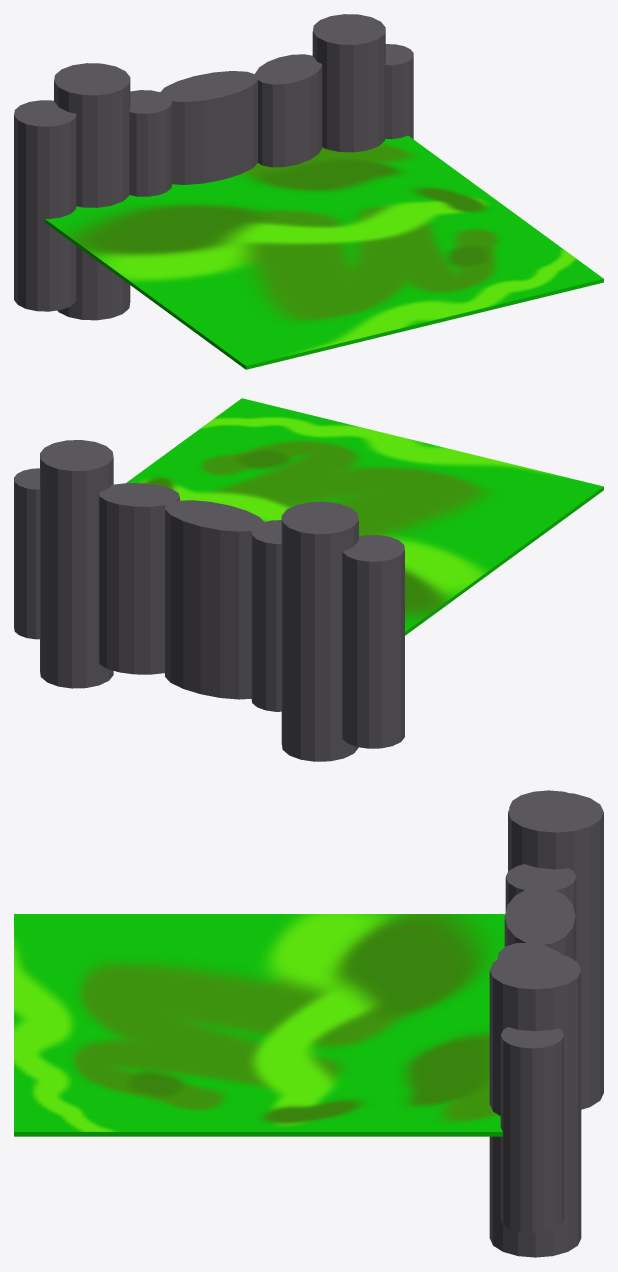
Rendered from terralgarden1.glb.
The picture shows the model from 3 angles, top to bottom: view 1: azimuth 30°, elevation 25°; view 2: azimuth 150°, elevation 25°; view 3: azimuth 270°, elevation 25°; orthographic projection. The views are drawn at different scales.
Visible parts, largest first — view 1: Grass, Cylinder, Cylinder.001, Cylinder.003, Cylinder.005, Cylinder.004, Cylinder.002, Cylinder.006; view 2: Grass, Cylinder.003, Cylinder.001, Cylinder.005, Cylinder, Cylinder.004, Cylinder.002, Cylinder.006; view 3: Grass, Cylinder.005, Cylinder.001, Cylinder.006, Cylinder.003, Cylinder.002.
Part boxes in pixels (box(x1,y1,x2,y2)): Grass: box(45, 135, 603, 369); Cylinder: box(14, 100, 76, 311); Cylinder.001: box(54, 63, 130, 320); Cylinder.003: box(160, 71, 257, 184); Cylinder.005: box(312, 14, 385, 152); Cylinder.004: box(255, 54, 322, 167); Cylinder.002: box(129, 90, 171, 196); Cylinder.006: box(385, 44, 413, 139); Grass: box(126, 398, 603, 635); Cylinder.003: box(165, 500, 264, 699); Cylinder.001: box(281, 501, 358, 761); Cylinder.005: box(40, 440, 113, 688); Cylinder: box(342, 535, 404, 748); Cylinder.004: box(98, 483, 179, 674); Cylinder.002: box(251, 520, 281, 711); Cylinder.006: box(14, 468, 40, 639); Grass: box(14, 914, 505, 1136); Cylinder.005: box(489, 950, 581, 1257); Cylinder.001: box(508, 792, 603, 1109); Cylinder.006: box(500, 1027, 563, 1232); Cylinder.003: box(504, 887, 575, 960); Cylinder.002: box(505, 864, 576, 961).
Size of the model in its own units: 28.74 by 16 by 30.49.
Materials: 2 (1 with a texture image).
